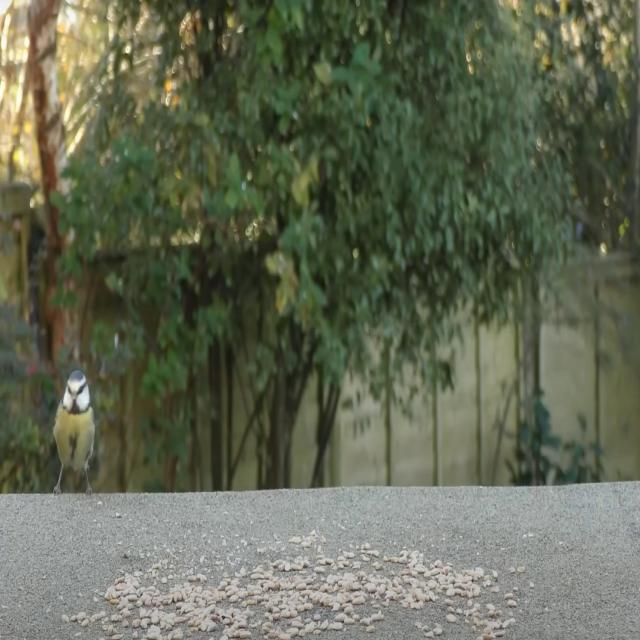beak: (71, 394, 79, 405)
bird: (53, 363, 98, 508)
